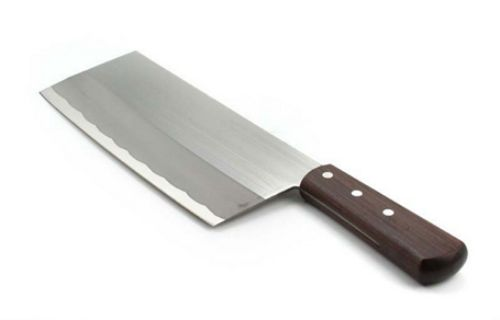knief: (44, 48, 464, 276)
